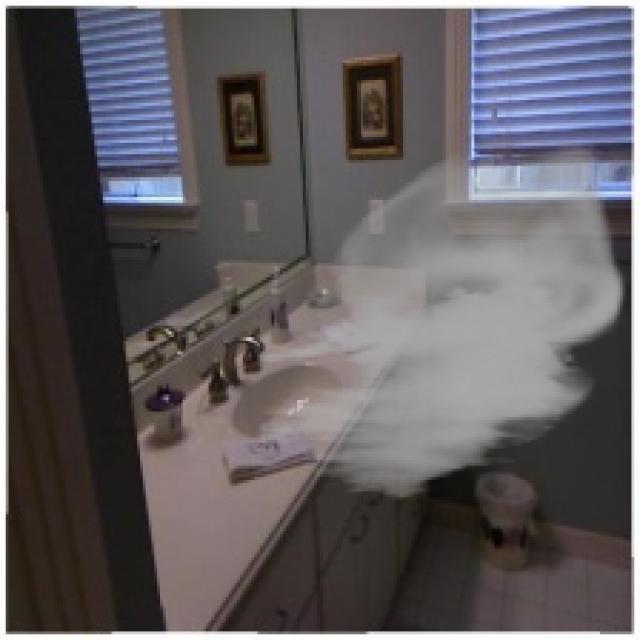Smoke: (257, 143, 626, 503)
